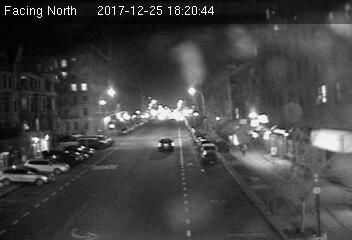car: (201, 150, 220, 165), (156, 137, 175, 150)
